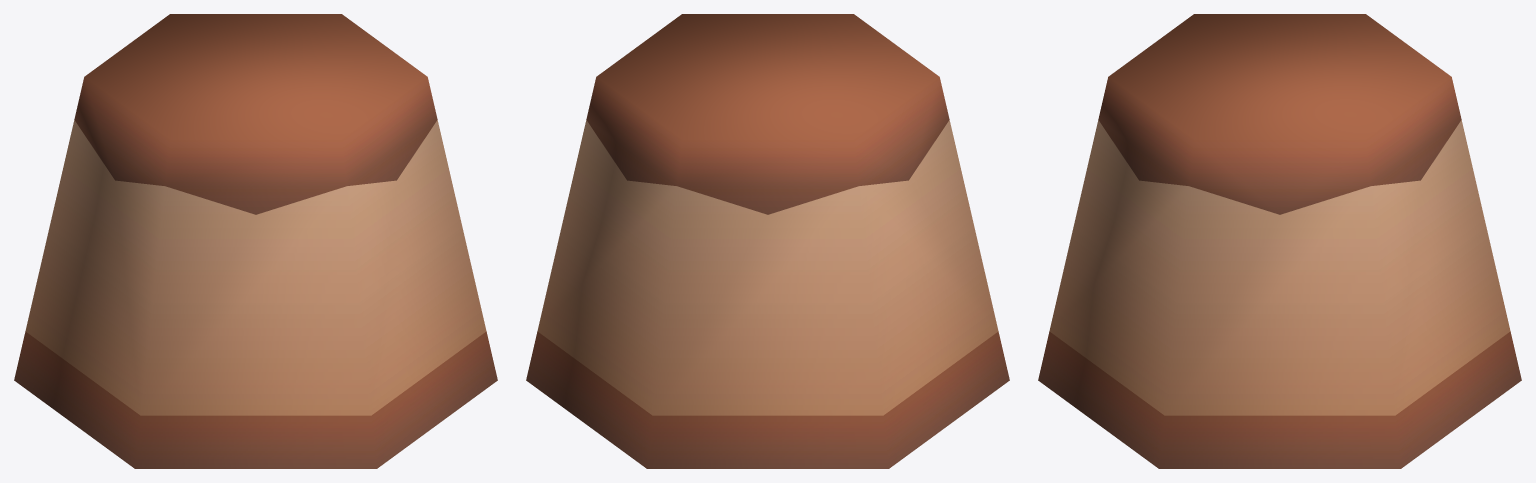
Rendered from pudding.glb.
3 views of the same model, side by side, from view 1: azimuth 30°, elevation 25°; view 2: azimuth 150°, elevation 25°; view 3: azimuth 270°, elevation 25° (orthographic).
Parts seen in each view (by area): view 1: pudding; view 2: pudding; view 3: pudding.
Boxes of the visible parts, x1,y1,x2,y2 form: pudding: (14, 14, 497, 468); pudding: (526, 14, 1009, 468); pudding: (1038, 14, 1521, 468).
Size of the model in its own units: 0.25 by 0.1998 by 0.2886.
1 material, 1 textured.
